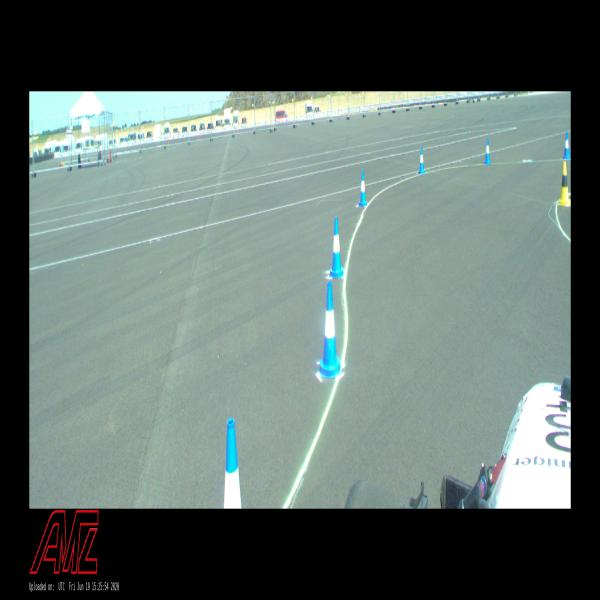blue_cone: (318, 281, 342, 378), (223, 418, 242, 509), (329, 216, 344, 278), (359, 170, 367, 207), (418, 147, 426, 173), (563, 131, 570, 159), (484, 138, 491, 165)
yellow_cone: (558, 161, 571, 206)
